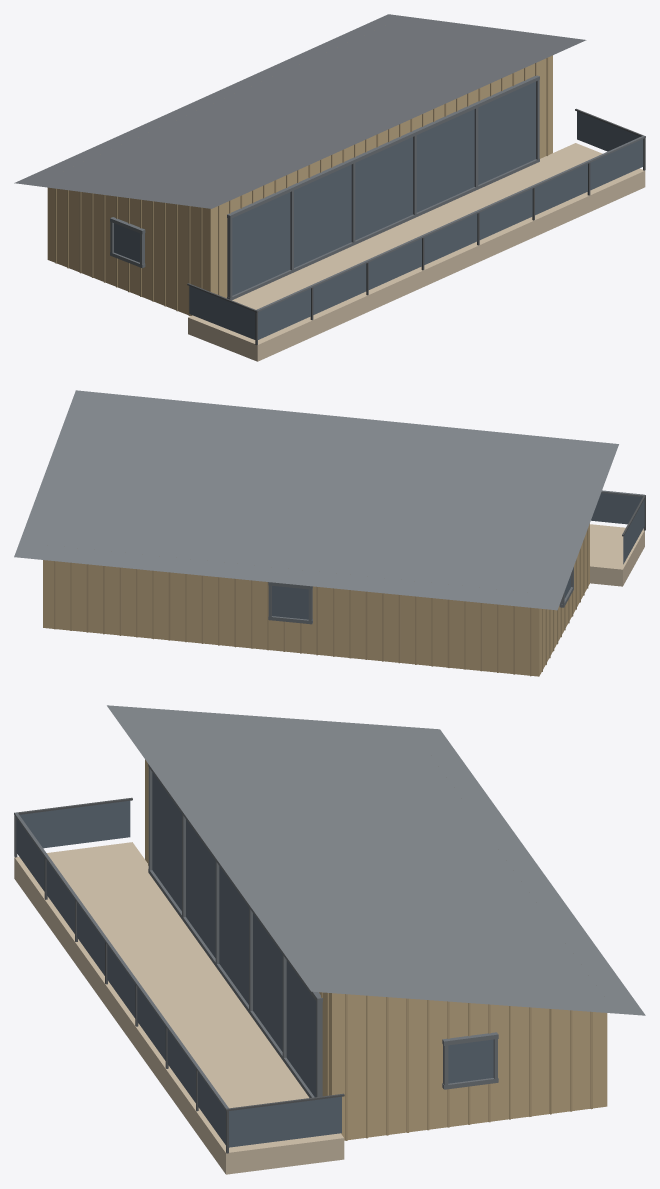
The picture shows the model from 3 angles, top to bottom: view 1: azimuth 30°, elevation 25°; view 2: azimuth 150°, elevation 25°; view 3: azimuth 270°, elevation 25°; orthographic projection. The views are drawn at different scales.
Parts seen in each view (by area): view 1: slate, door_wood, larch, slate_dk, window_glass_010, window_glass_013, window_glass_011, window_glass_014, window_glass_012, door_wood_p, window_glass_008, window_glass_003 (+9 smaller); view 2: slate, door_wood, door_wood_p, larch, window_glass_001, window_glass_016, slate_dk, window_glass_008; view 3: slate, larch, door_wood, slate_dk, door_wood_p, window_glass_009, window_glass_008, window_glass_014, window_glass_010, window_glass_012, window_glass_011, window_glass_013 (+9 smaller).
Boxes of the visible parts, x1=… form: slate: x1=14, y1=14, x2=586, y2=208; door_wood: x1=47, y1=55, x2=552, y2=315; larch: x1=188, y1=143, x2=645, y2=361; slate_dk: x1=110, y1=75, x2=644, y2=311; window_glass_010: x1=232, y1=192, x2=290, y2=295; window_glass_013: x1=416, y1=109, x2=474, y2=212; window_glass_011: x1=294, y1=164, x2=351, y2=267; window_glass_014: x1=478, y1=81, x2=535, y2=184; window_glass_012: x1=355, y1=137, x2=412, y2=240; door_wood_p: x1=55, y1=57, x2=548, y2=315; window_glass_008: x1=189, y1=286, x2=255, y2=339; window_glass_003: x1=368, y1=238, x2=421, y2=289; slate: x1=14, y1=390, x2=618, y2=610; door_wood: x1=43, y1=523, x2=589, y2=676; door_wood_p: x1=54, y1=528, x2=588, y2=676; larch: x1=590, y1=524, x2=644, y2=586; window_glass_001: x1=591, y1=493, x2=642, y2=524; window_glass_016: x1=272, y1=586, x2=308, y2=619; slate_dk: x1=268, y1=490, x2=644, y2=624; window_glass_008: x1=623, y1=499, x2=644, y2=564; slate: x1=107, y1=705, x2=645, y2=1015; larch: x1=14, y1=842, x2=344, y2=1174; door_wood: x1=145, y1=759, x2=607, y2=1140; slate_dk: x1=14, y1=764, x2=498, y2=1109; door_wood_p: x1=148, y1=764, x2=592, y2=1140; window_glass_009: x1=229, y1=1096, x2=341, y2=1147; window_glass_008: x1=19, y1=800, x2=130, y2=848; window_glass_014: x1=286, y1=960, x2=316, y2=1097; window_glass_010: x1=152, y1=772, x2=181, y2=910; window_glass_012: x1=219, y1=866, x2=248, y2=1004; window_glass_011: x1=186, y1=819, x2=215, y2=957; window_glass_013: x1=253, y1=913, x2=282, y2=1051.
Bounding box in the file's own units: 17.24 × 3.88 × 13.31.
